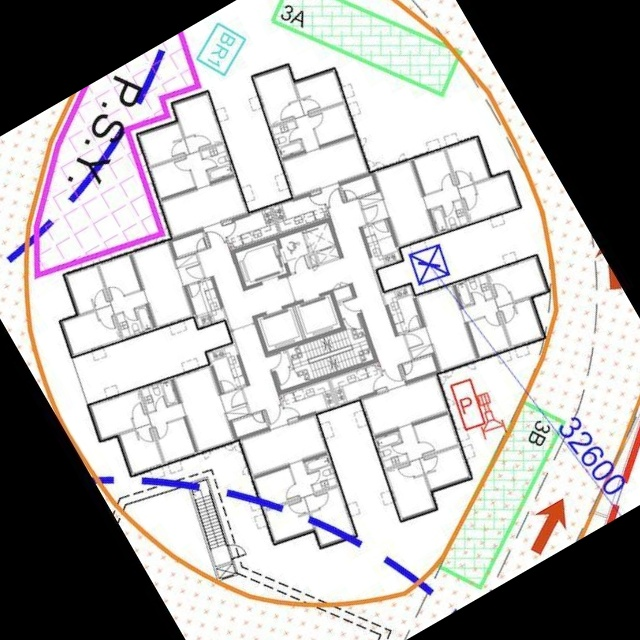tower_crane: (406, 245, 455, 286)
